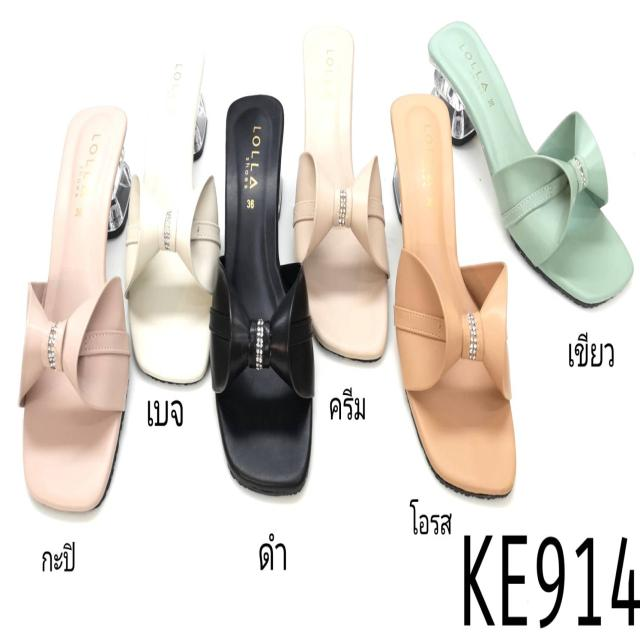bej: (126, 28, 214, 384)
black: (219, 92, 313, 486)
cream: (303, 22, 388, 363)
green: (427, 22, 629, 313)
kapi: (25, 100, 131, 514)
orot: (394, 92, 515, 497)
